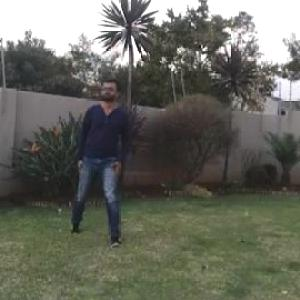follow: (74, 70, 132, 249)
